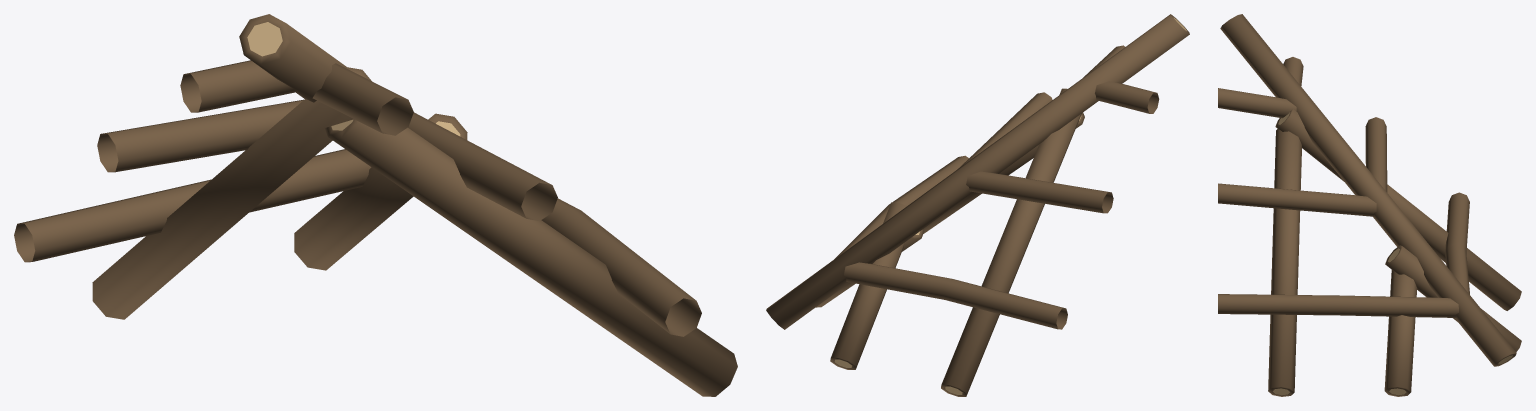
The model's file is rpgpp_ag_roof_support_01_6x3x3_corner_b.fbx.
The picture shows the model from 3 angles, left to right: view 1: azimuth 30°, elevation 25°; view 2: azimuth 150°, elevation 25°; view 3: azimuth 270°, elevation 25°; orthographic projection. The views are drawn at different scales.
Parts seen in each view (by area): view 1: rpgpp_ag_roof_support_01_6x3x3_corner_b; view 2: rpgpp_ag_roof_support_01_6x3x3_corner_b; view 3: rpgpp_ag_roof_support_01_6x3x3_corner_b.
Boxes of the visible parts, left/top/right/bottom form: rpgpp_ag_roof_support_01_6x3x3_corner_b: left=14, top=14, right=737, bottom=396; rpgpp_ag_roof_support_01_6x3x3_corner_b: left=766, top=14, right=1189, bottom=396; rpgpp_ag_roof_support_01_6x3x3_corner_b: left=1218, top=14, right=1521, bottom=396.
Size of the model in its own units: 3.74 by 3.52 by 3.65.
